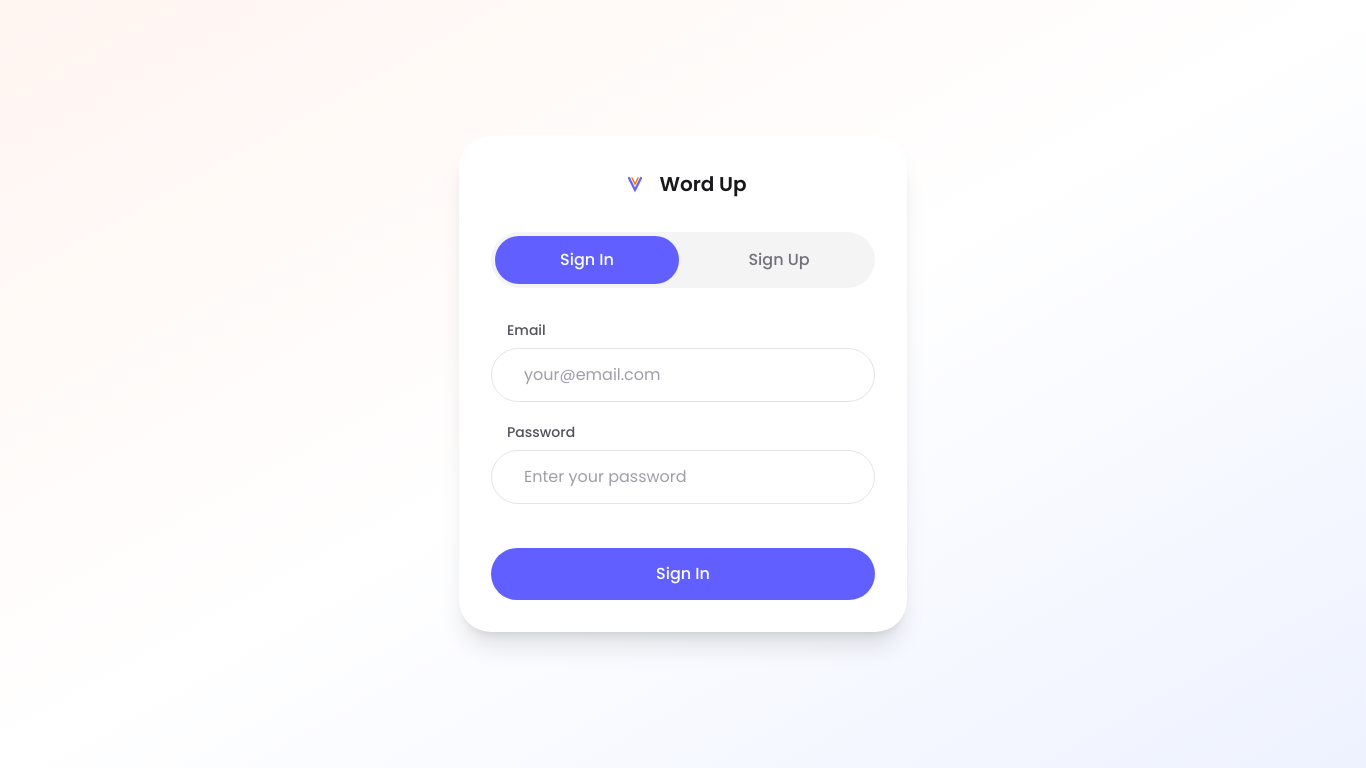
Scenario: AuthPage › unauthenticated state › should show register error message
What coordinates should you click on to do the following:
click the button "Sign Up"
I would click on:
 (779, 260)
Its box is [687, 236, 871, 284].
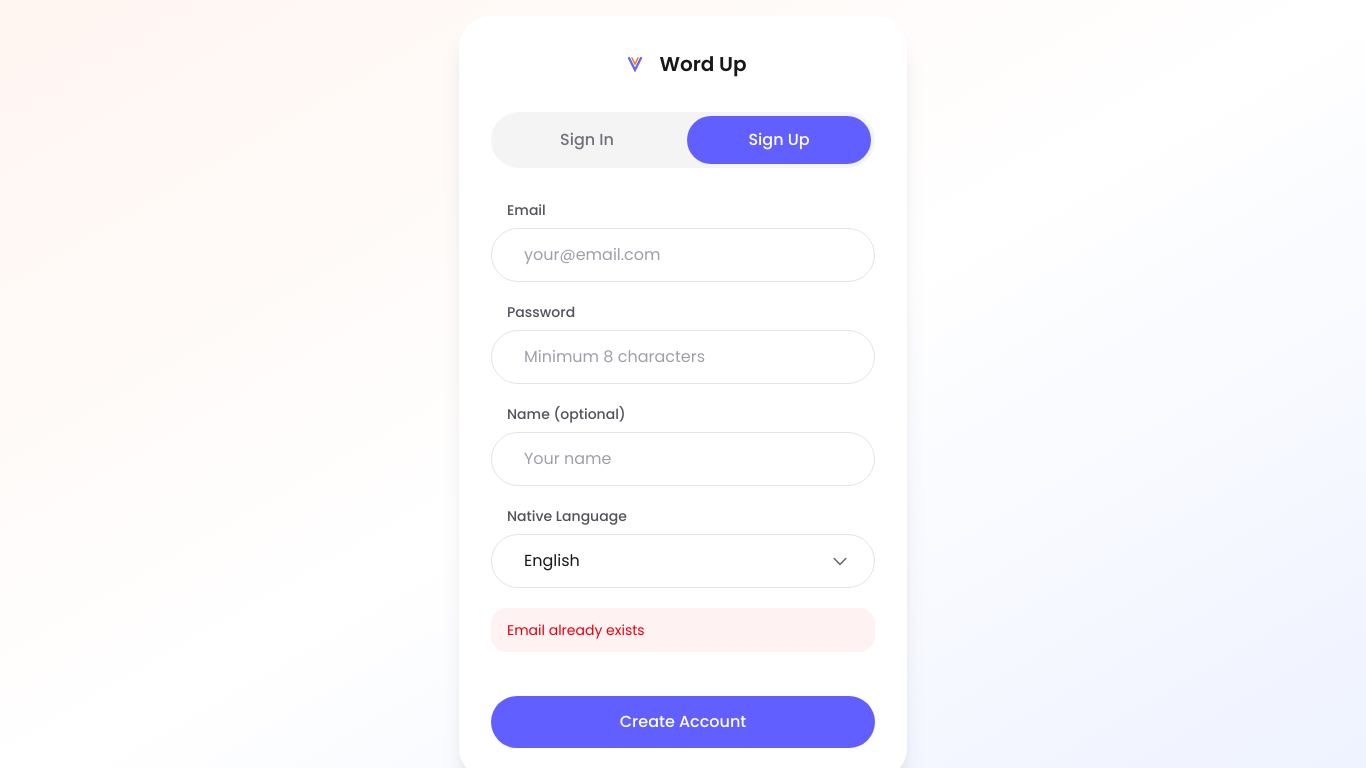
expect the text "Email already exists" is shown: met, box [491, 608, 875, 652]
